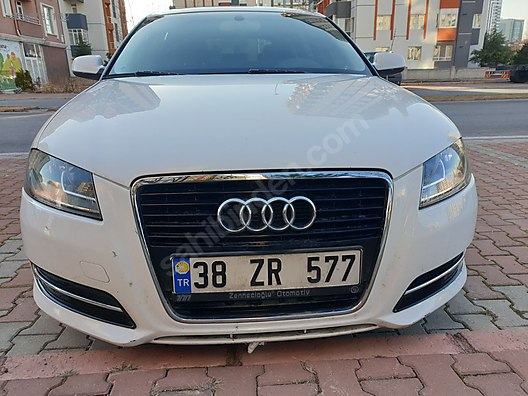audi: (210, 190, 320, 238)
